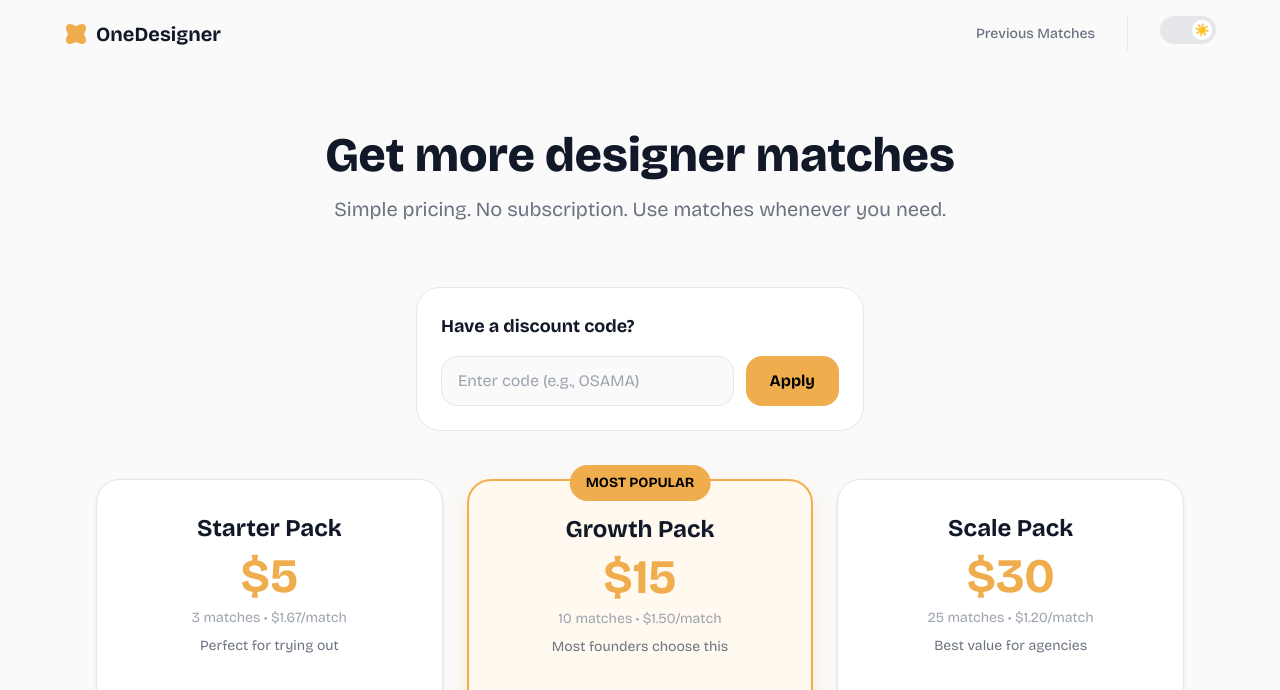
Scenario: Simple OSAMA Discount Code UI Test › should handle invalid discount codes
Type "INVALID" into the field with test id "discount-code-input" at x=588, y=381, box [441,356,734,406]
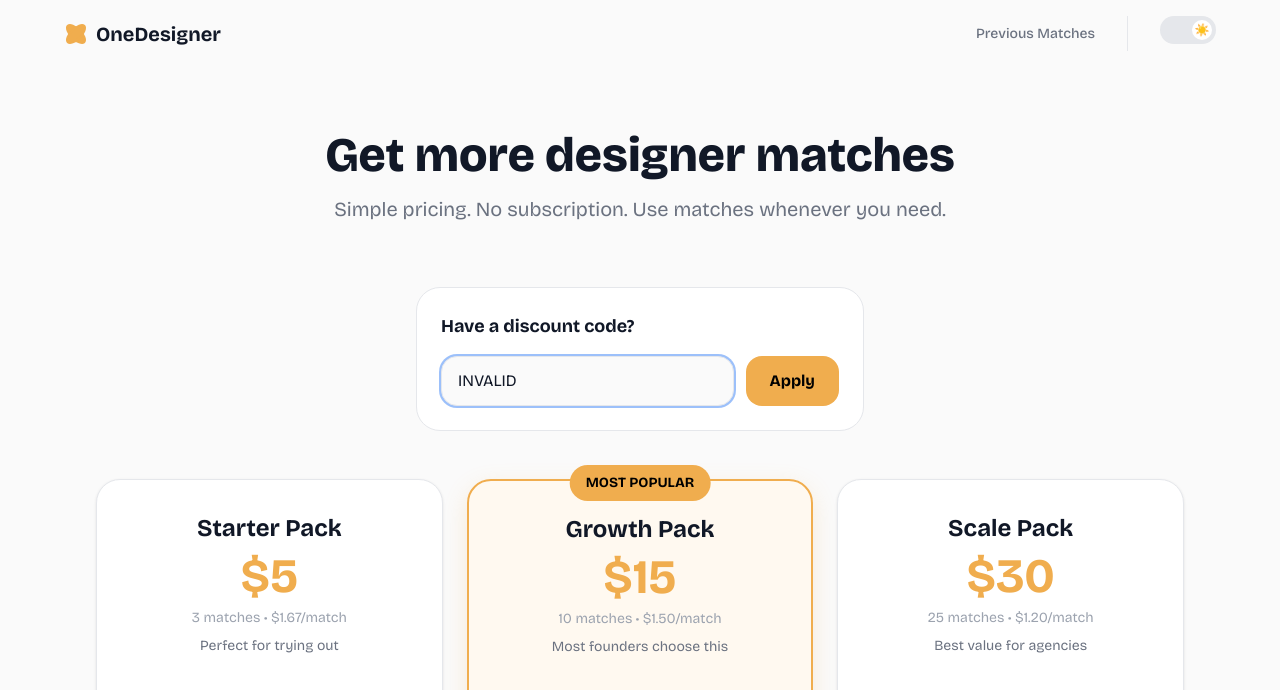
Click the button with test id "apply-discount-btn" at x=793, y=381, box [746,356,839,406]
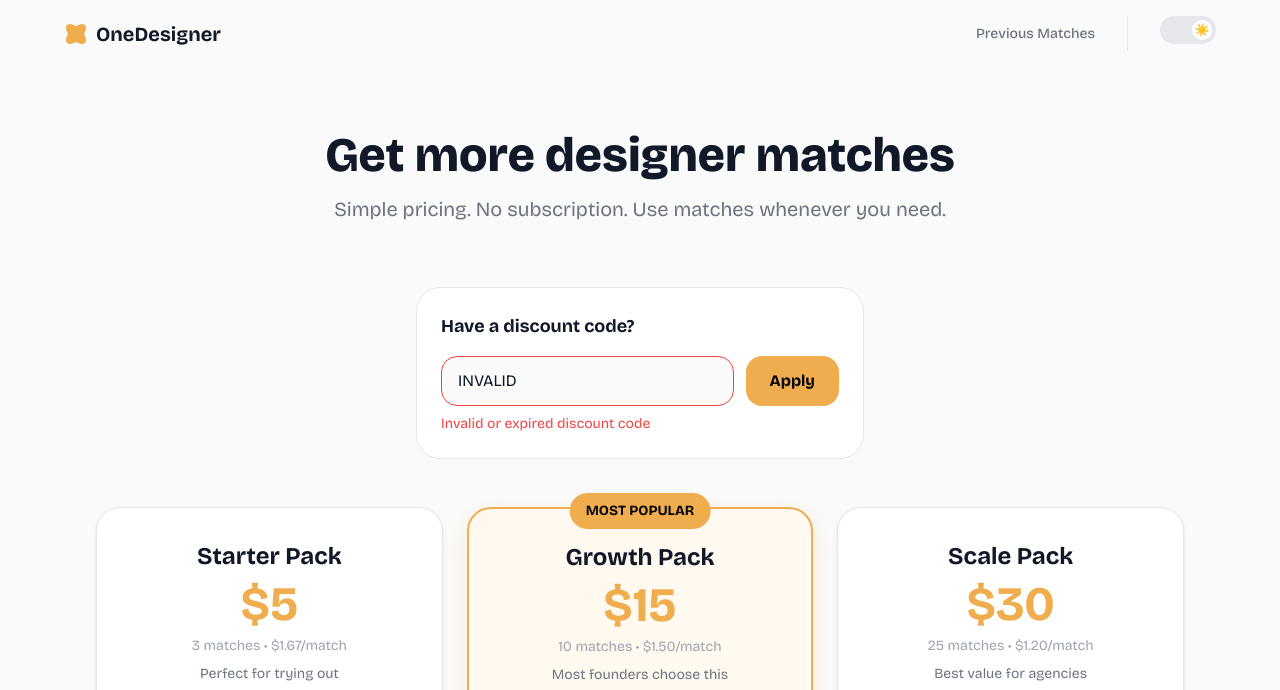
Now the text "Invalid or expired discount code" is shown, box [441,415,650,432]
Clear the field with test id "discount-code-input" at x=588, y=381, box [441,356,734,406]
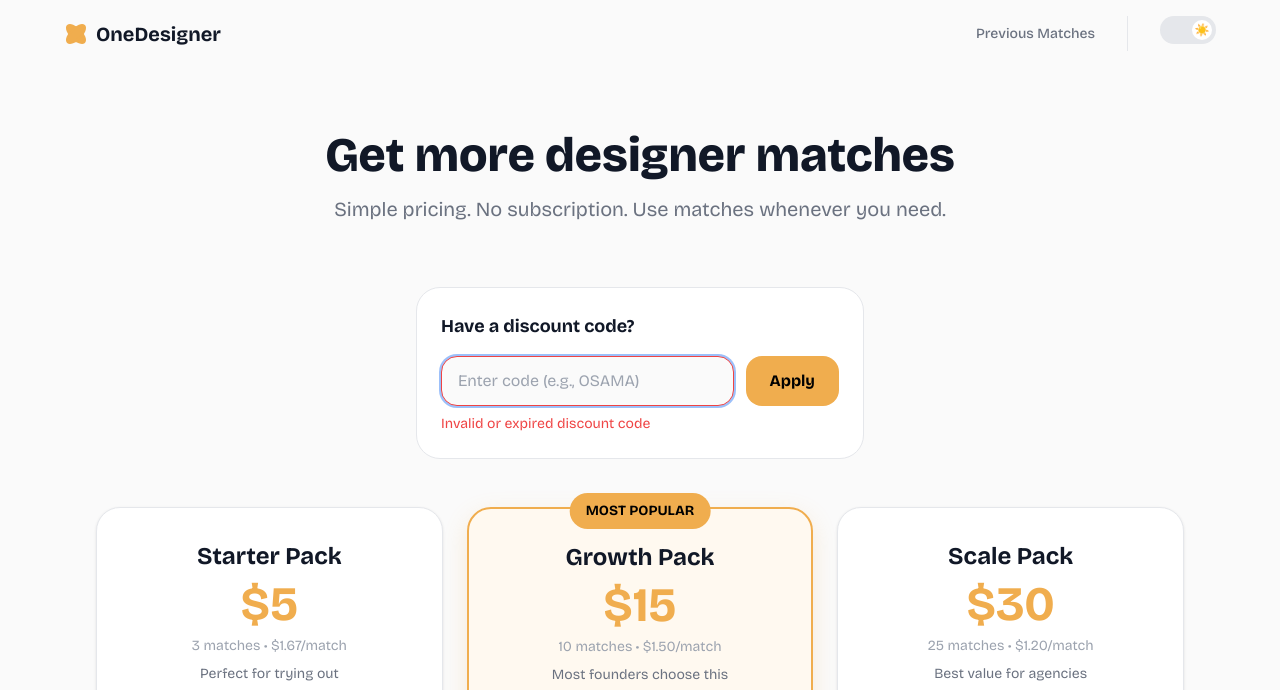
Click the button with test id "apply-discount-btn" at x=793, y=381, box [746,356,839,406]
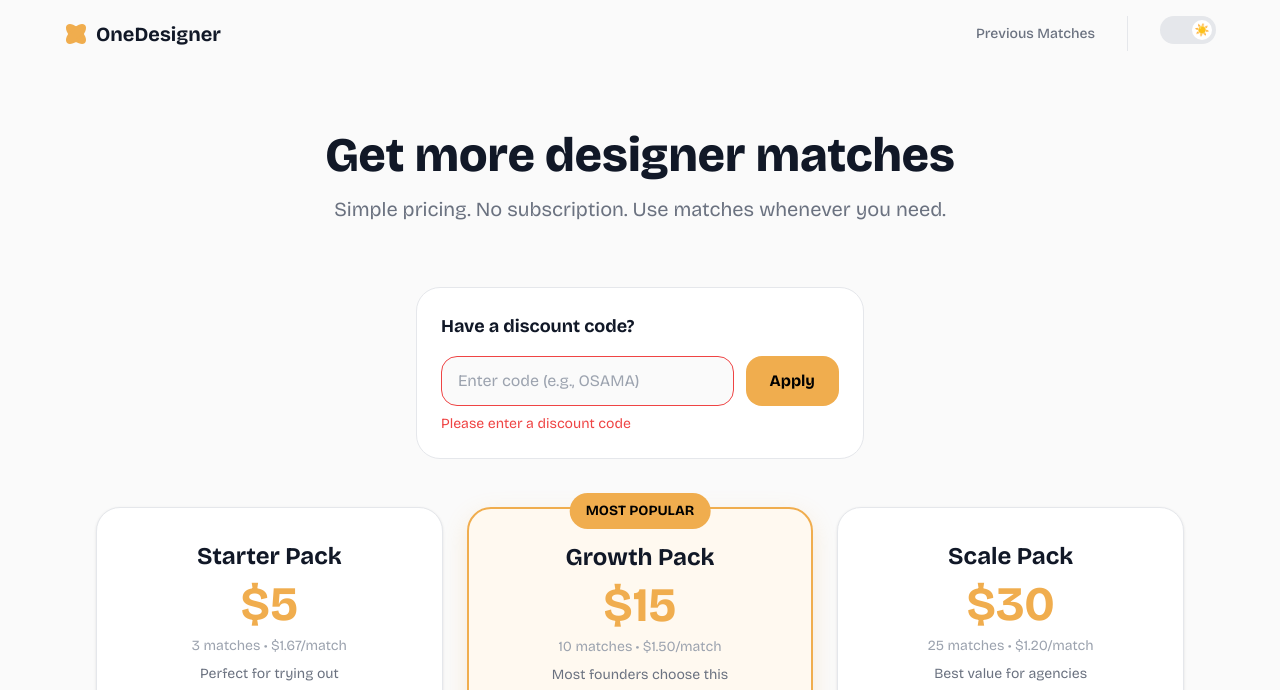
Now the text "Please enter a discount code" is shown, box [441,415,631,432]
Type "osama" into the field with test id "discount-code-input" at x=588, y=381, box [441,356,734,406]
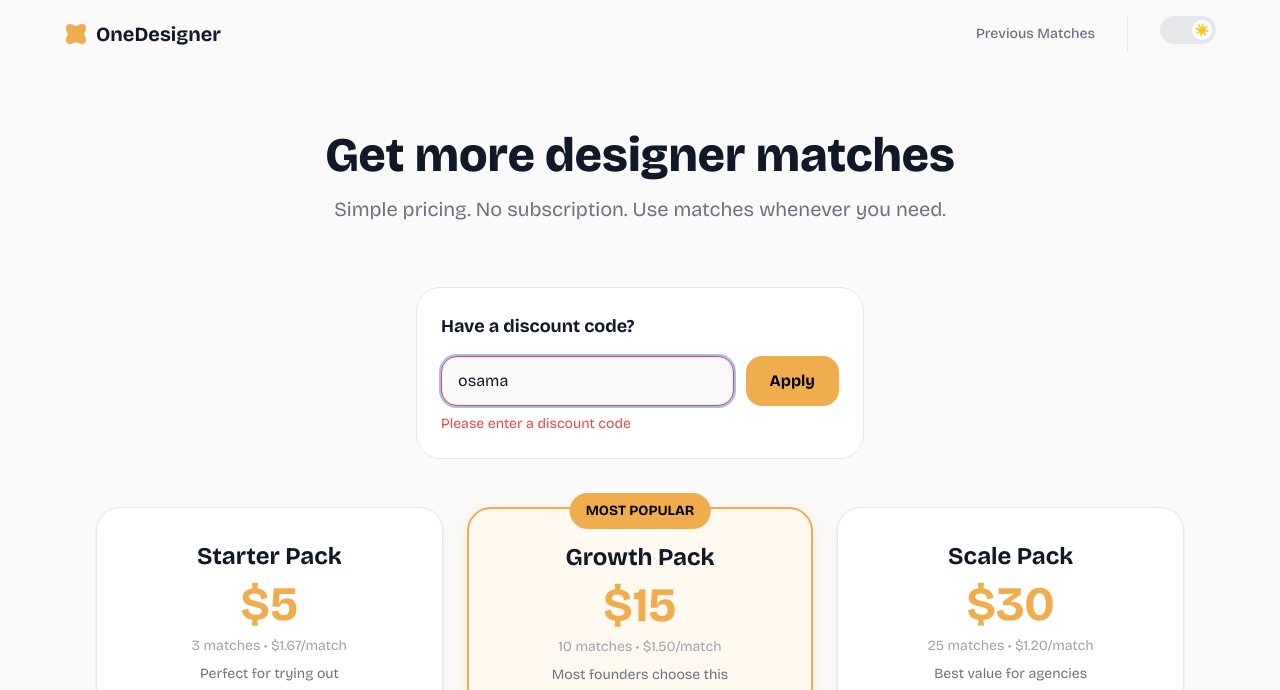
Click the button with test id "apply-discount-btn" at x=793, y=381, box [746,356,839,406]
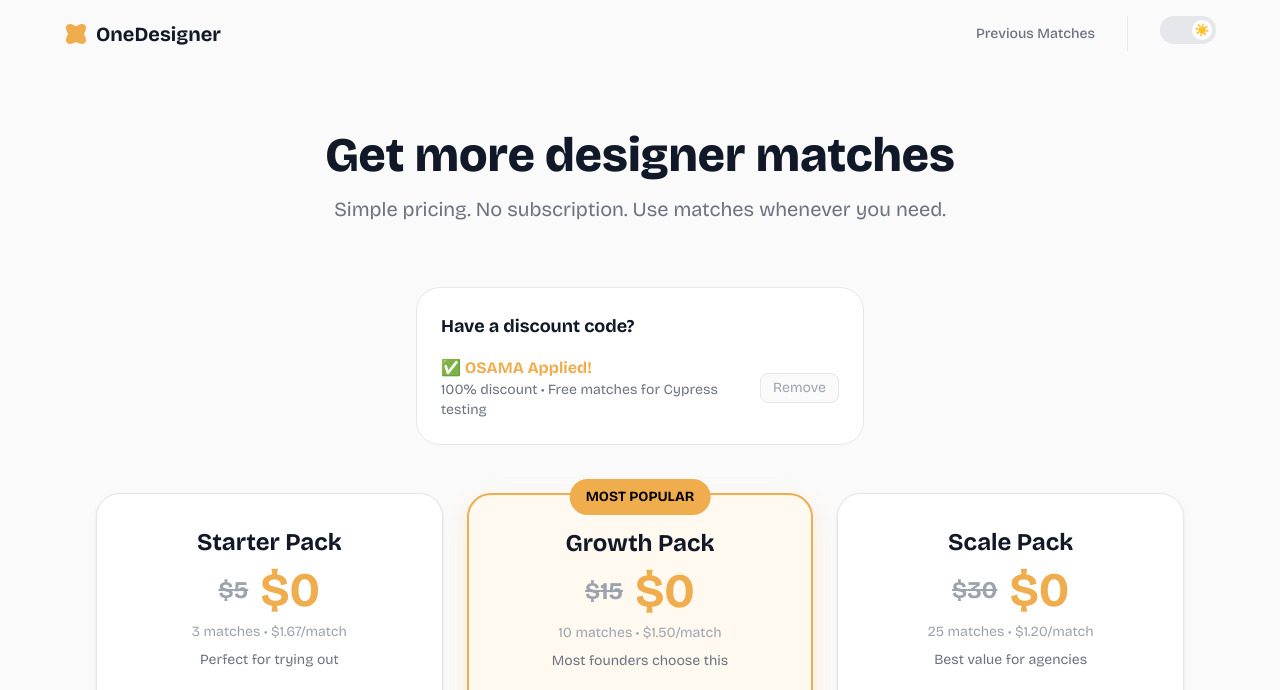
Now the text "✅ OSAMA Applied!" is shown, box [441,358,592,377]
